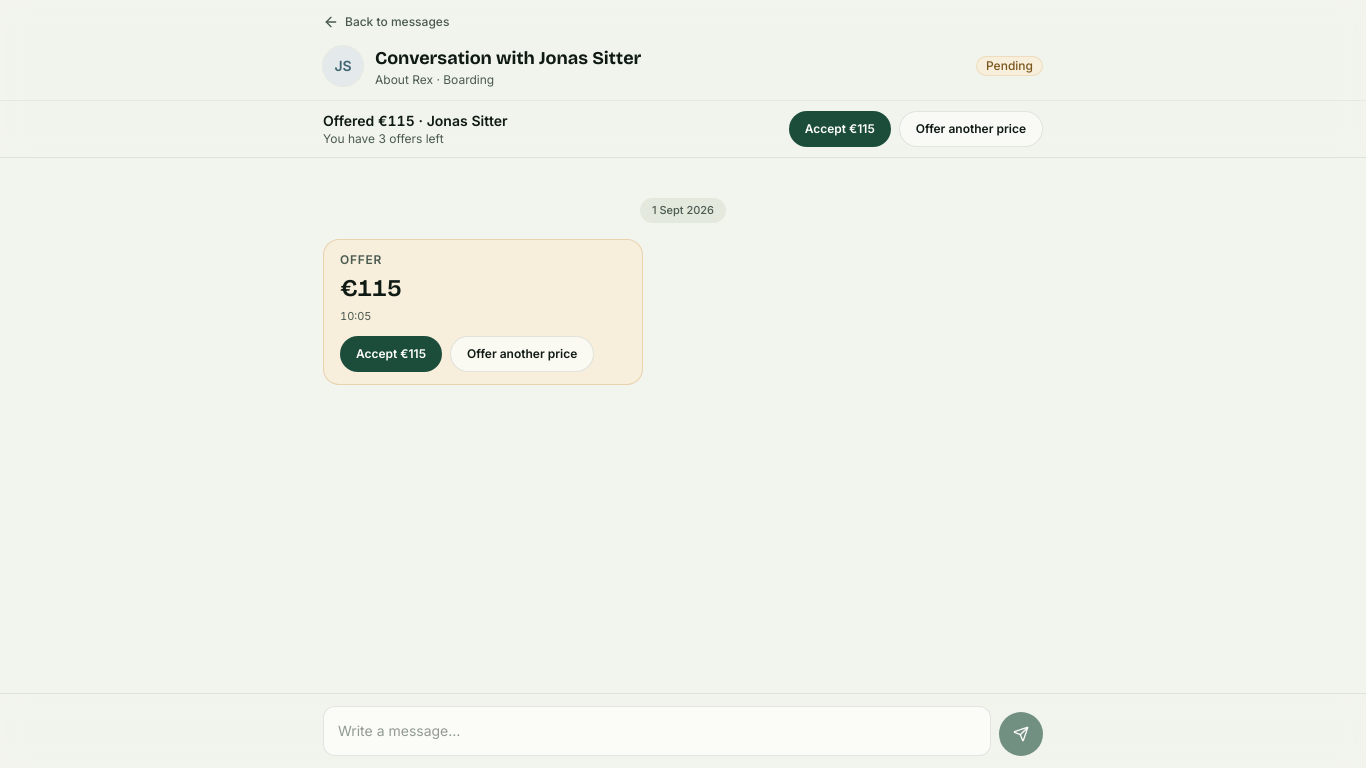
Test: price and offers (2026-09-15) › tells the owner the sitter isn't free when accepting is refused with already_booked
The width and height of the screenshot is (1366, 768).
Expected: the element showing "1 Sept 2026 Offer €115 10:05 Accept €115 Offer another price" is shown, [323,198,726,385]
Click the button "Accept €115" in the row of "Offered €115 · Jonas Sitter" at (840, 129), box [789,111,891,147]
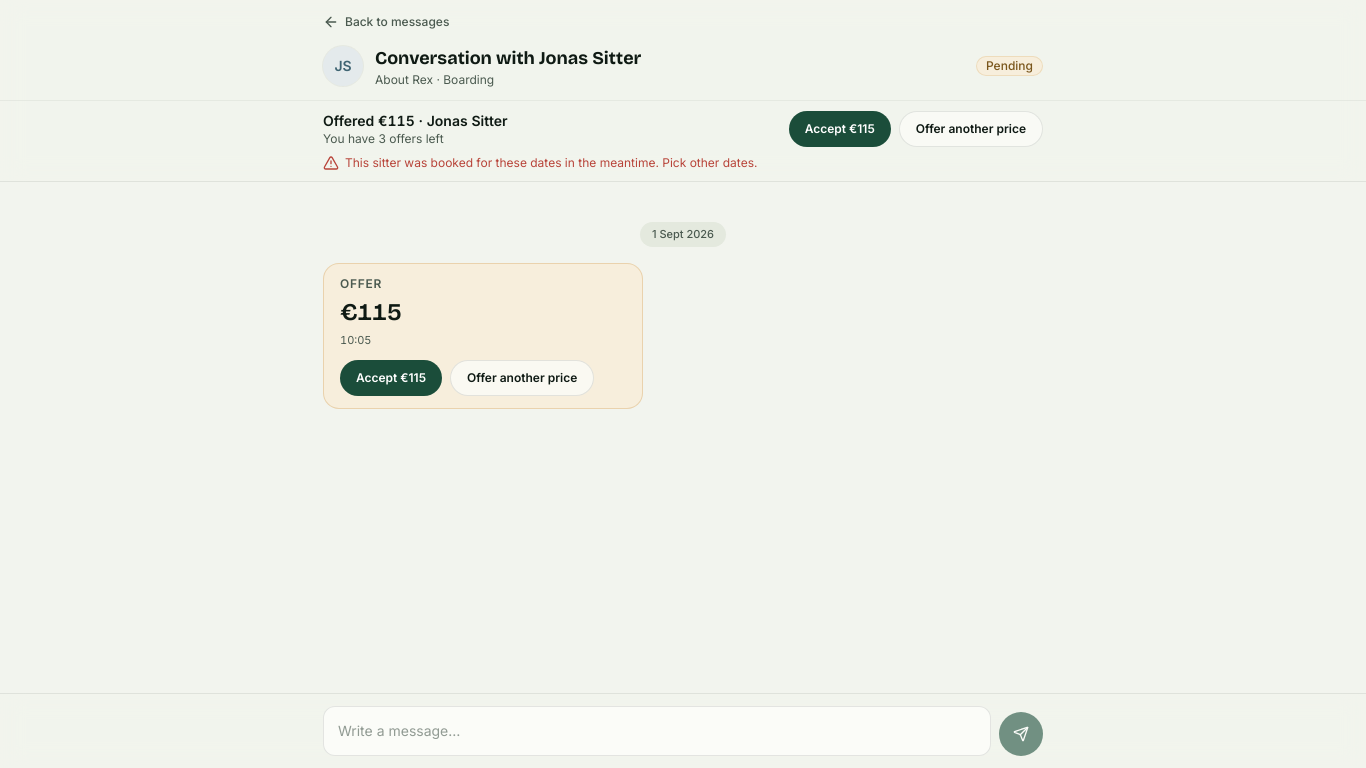
Result: the text "This sitter was booked for these dates in the meantime. Pick other dates." is shown at [323,155,757,171]
